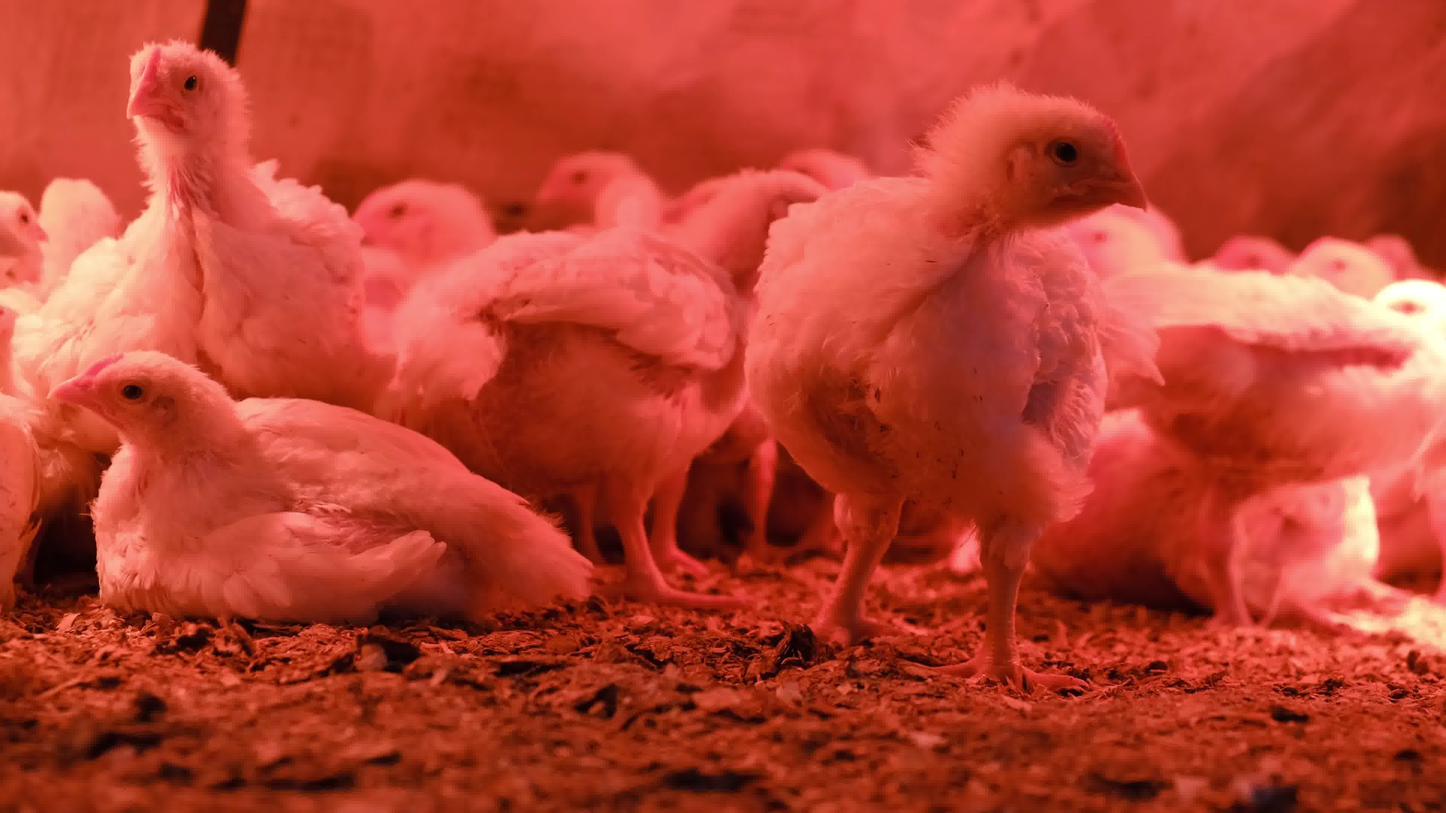AbNormal: (26, 358, 606, 623)
Normal: (727, 88, 1190, 694), (403, 169, 811, 614), (1122, 248, 1446, 630), (58, 36, 429, 363), (354, 152, 537, 305), (1271, 226, 1446, 327)
